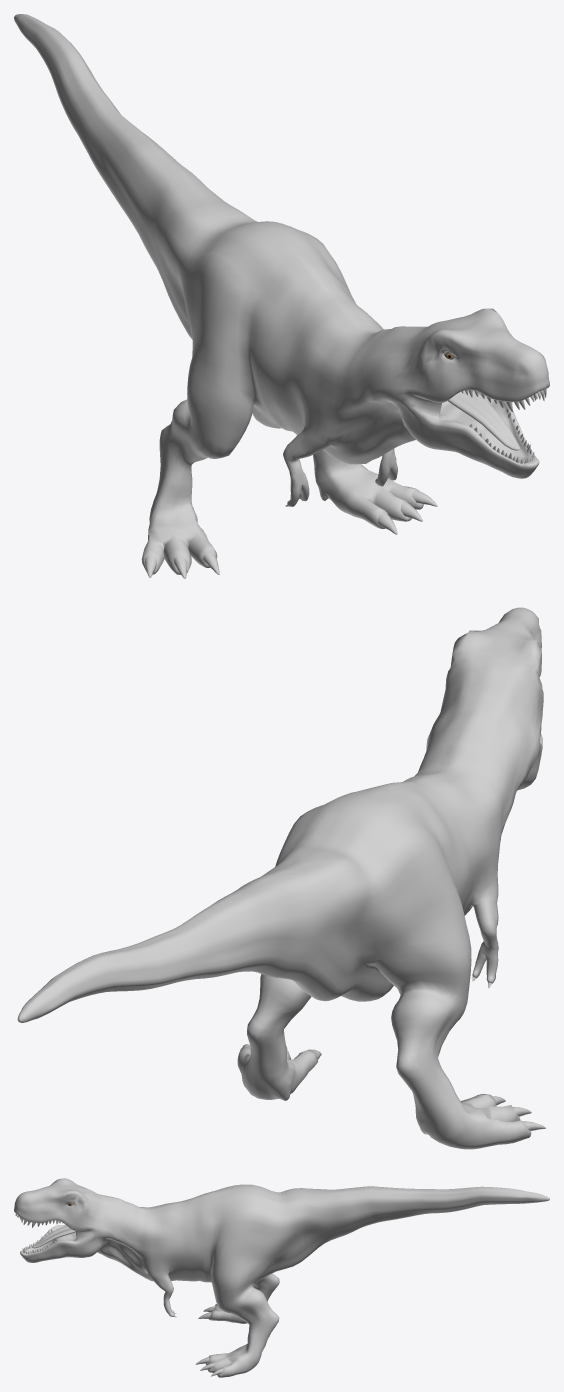
File: t-rex.obj
The picture shows the model from 3 angles, top to bottom: view 1: azimuth 30°, elevation 25°; view 2: azimuth 150°, elevation 25°; view 3: azimuth 270°, elevation 25°; orthographic projection. The views are drawn at different scales.
Parts seen in each view (by area): view 1: T-Rex1_T-Rex1.001, tongue_raptor_0, claws1, T-Rex_teeth1; view 2: T-Rex1_T-Rex1.001; view 3: T-Rex1_T-Rex1.001, tongue_raptor_0, claws1, T-Rex_teeth1.
Part boxes in pixels (x1,y1,x2,y2): T-Rex1_T-Rex1.001: (14, 14, 549, 574); tongue_raptor_0: (447, 390, 520, 450); claws1: (144, 481, 437, 578); T-Rex_teeth1: (461, 388, 546, 463); T-Rex1_T-Rex1.001: (17, 607, 543, 1149); T-Rex1_T-Rex1.001: (14, 1178, 549, 1377); tongue_raptor_0: (32, 1225, 75, 1248); claws1: (174, 1304, 223, 1376); T-Rex_teeth1: (15, 1214, 62, 1253).
Size of the model in its own units: 4.1 by 4.44 by 12.56.
